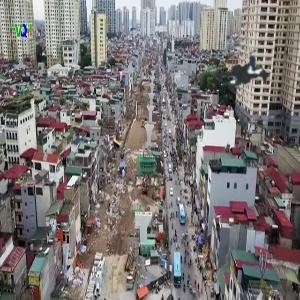drone: (192, 24, 294, 126)
